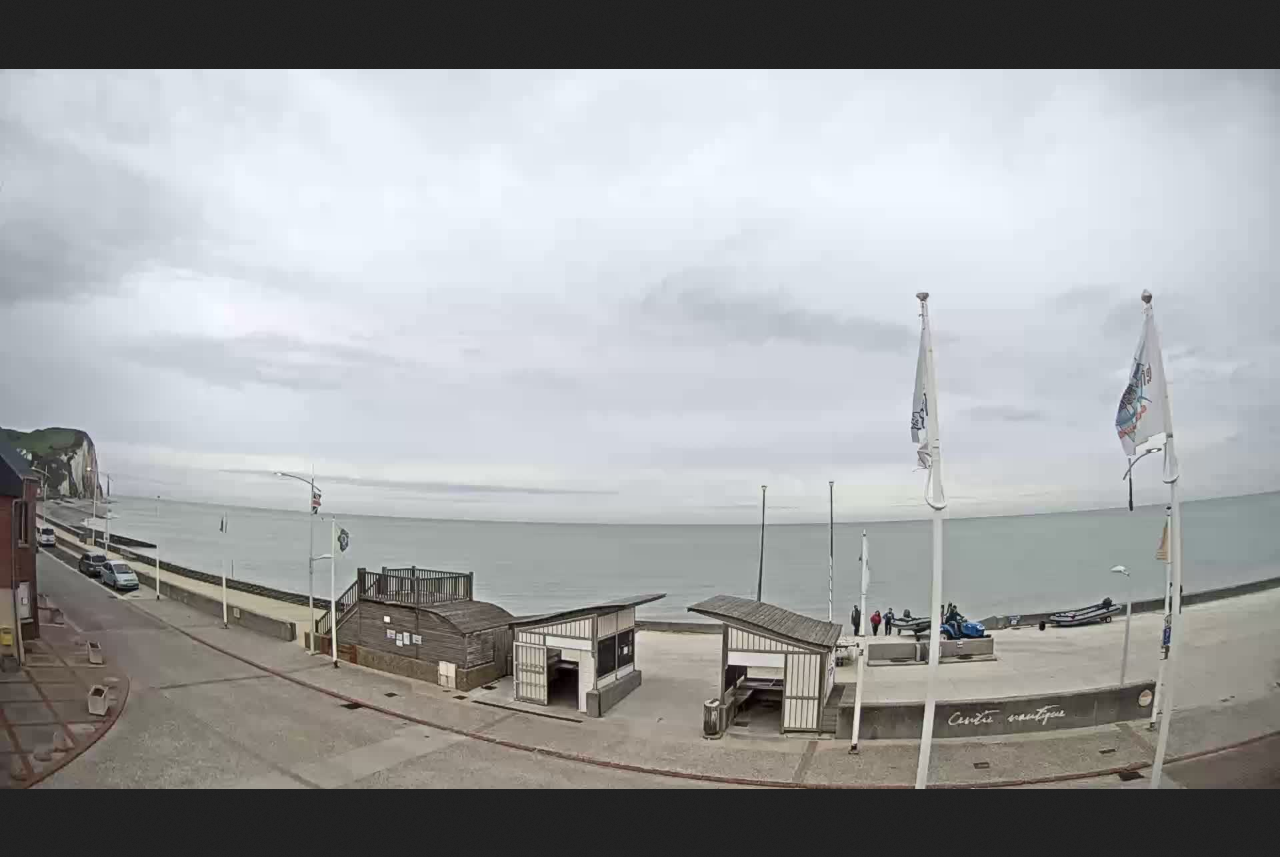maybe: (1115, 309, 1173, 458)
no: (910, 315, 949, 512)
